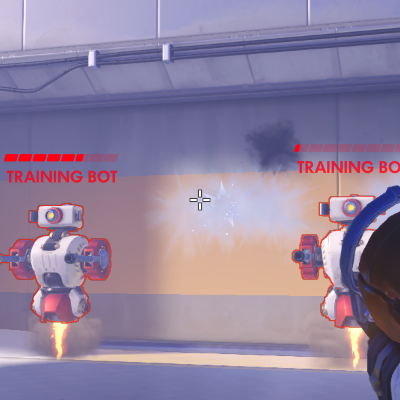hpbar: (3, 153, 119, 163), (294, 144, 400, 152)
